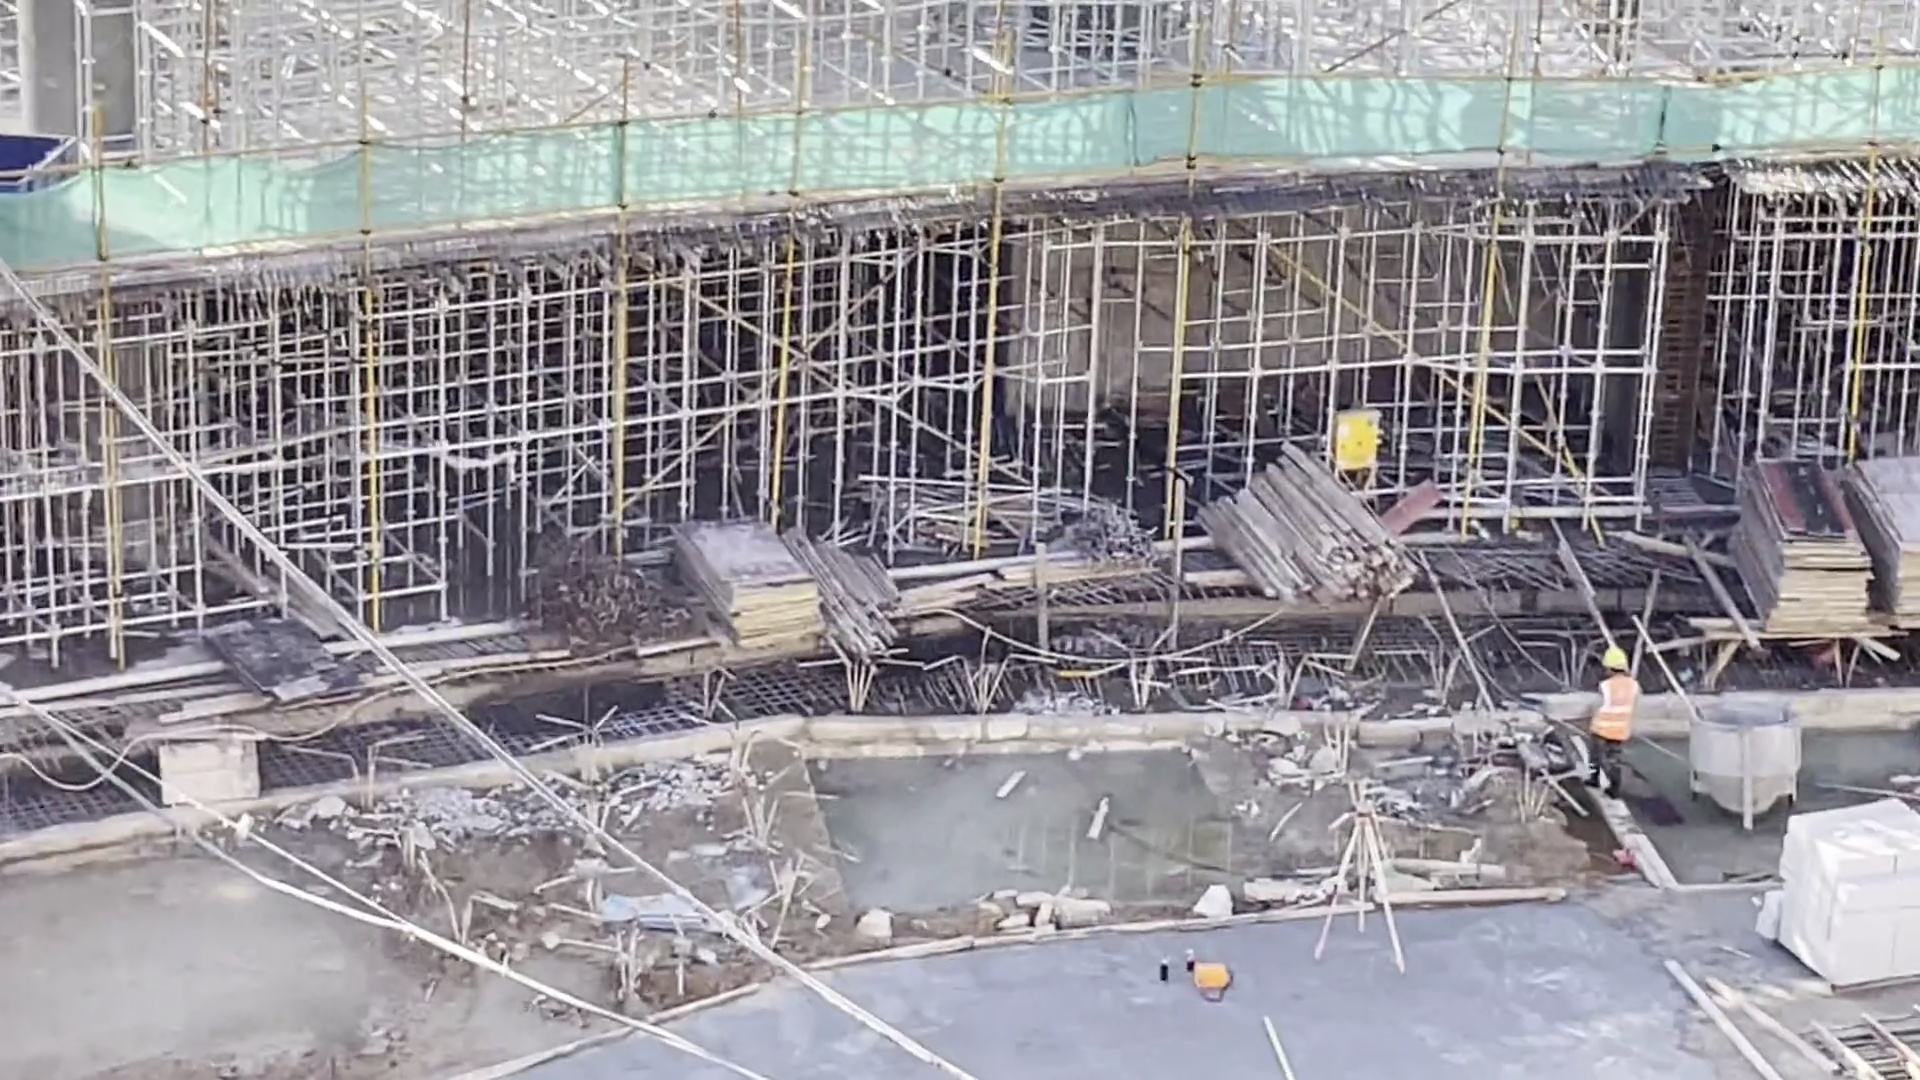board: (1717, 452, 1865, 642), (671, 507, 816, 661), (1849, 443, 1920, 633)
brick: (1760, 789, 1920, 1000)
ebox: (1323, 407, 1384, 490)
helmet: (1599, 646, 1625, 666)
hopper: (1683, 700, 1803, 833), (1, 133, 85, 201)
person: (1587, 648, 1641, 795)
vest: (1593, 675, 1634, 745)
wood: (1179, 444, 1405, 619)
